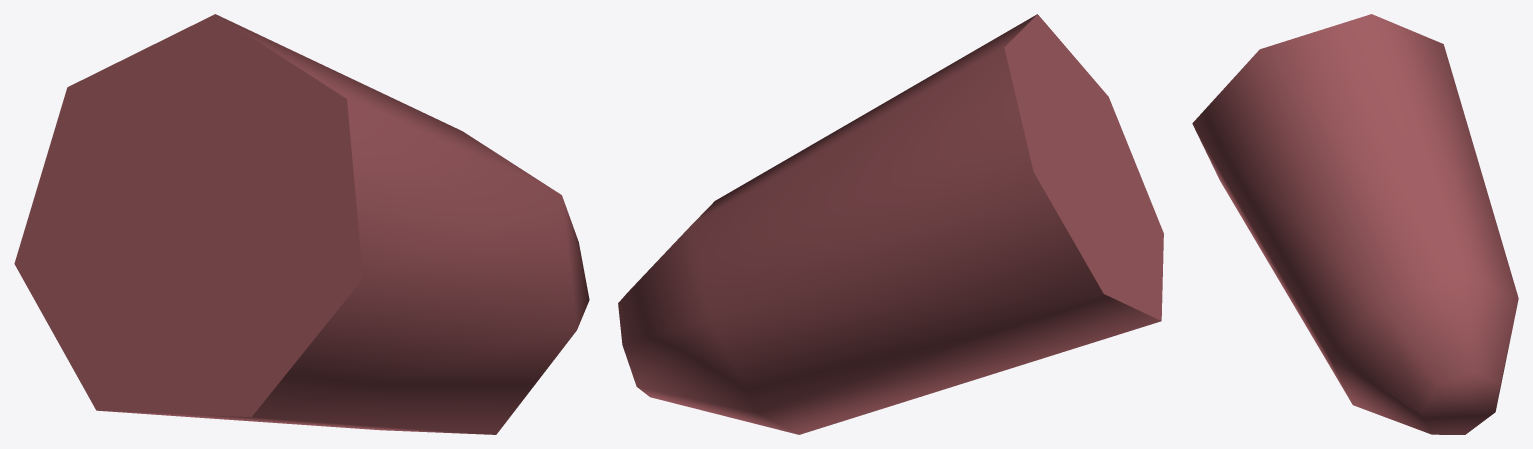
The model's file is toughspike_skirt_0.obj.
3 views of the same model, side by side, from view 1: azimuth 30°, elevation 25°; view 2: azimuth 150°, elevation 25°; view 3: azimuth 270°, elevation 25° (orthographic). The views are drawn at different scales.
Parts seen in each view (by area): view 1: toughspike_skirt_0; view 2: toughspike_skirt_0; view 3: toughspike_skirt_0.
Part boxes in pixels (box(x1,y1,x2,y2)): toughspike_skirt_0: box(14, 14, 589, 434); toughspike_skirt_0: box(618, 14, 1163, 434); toughspike_skirt_0: box(1192, 14, 1518, 434).
Bounding box in the file's own units: 0.2453 × 0.2027 × 0.1855.
